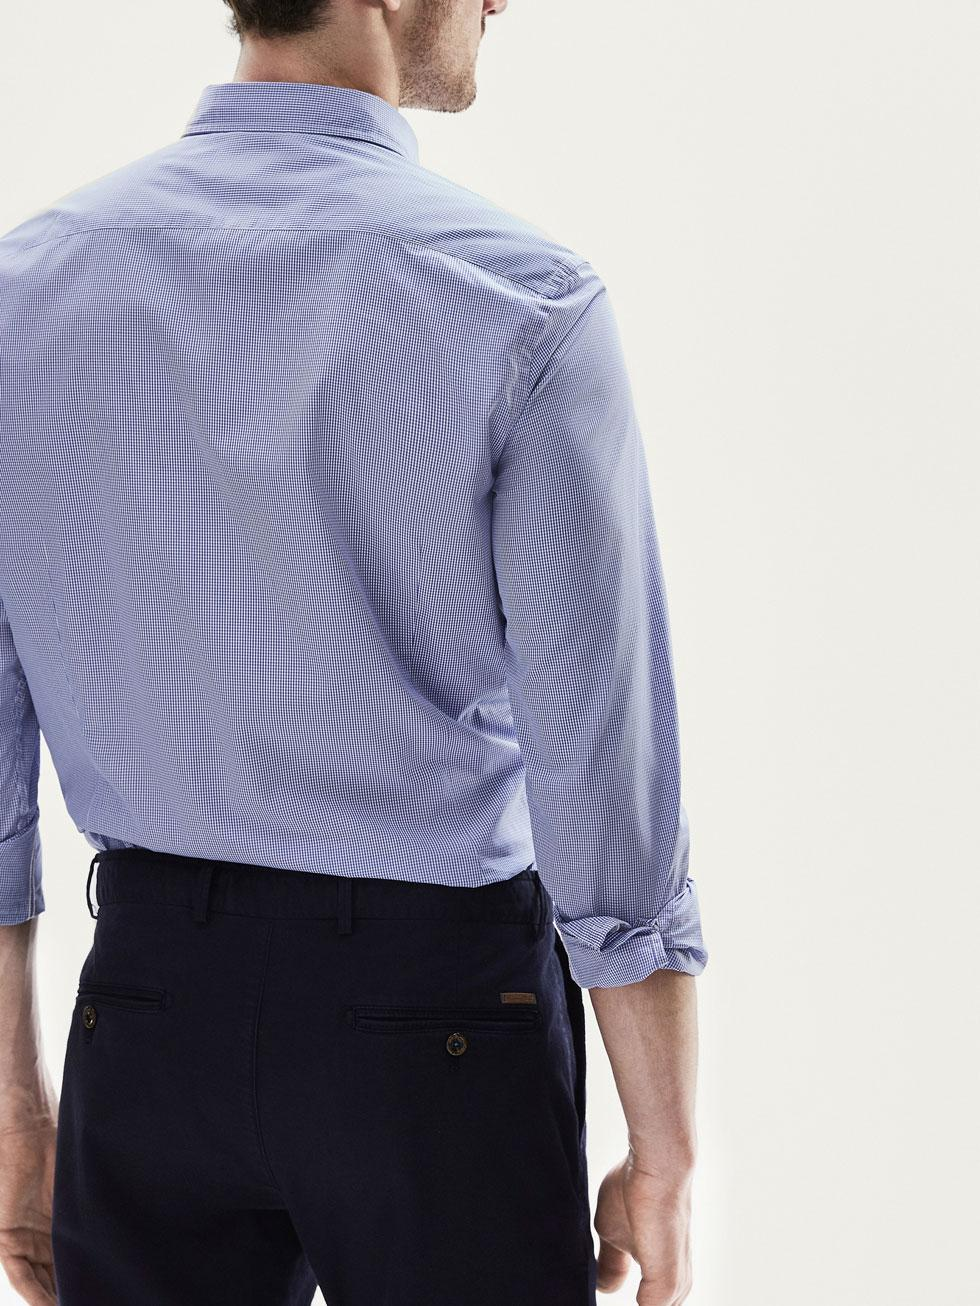teeshirt: (1, 125, 719, 948)
